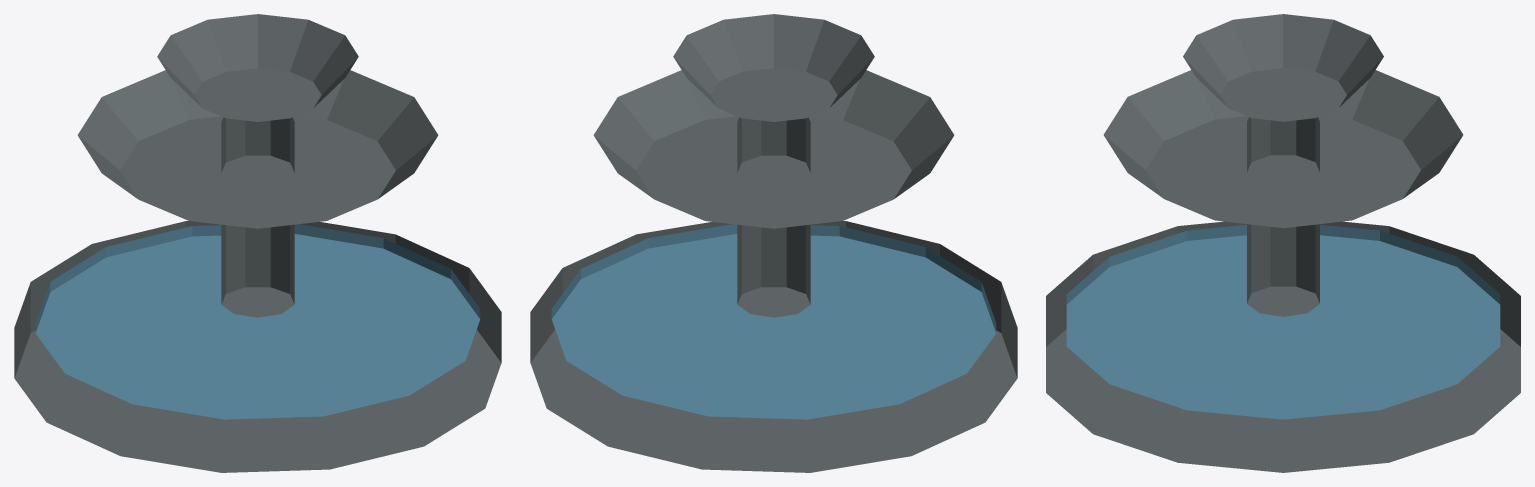
File: fountain.glb
The picture shows the model from 3 angles, left to right: view 1: azimuth 30°, elevation 25°; view 2: azimuth 150°, elevation 25°; view 3: azimuth 270°, elevation 25°; orthographic projection.
Bounding box in the file's own units: 2.76 × 1.96 × 2.69.
Materials: 1 (1 with a texture image).
